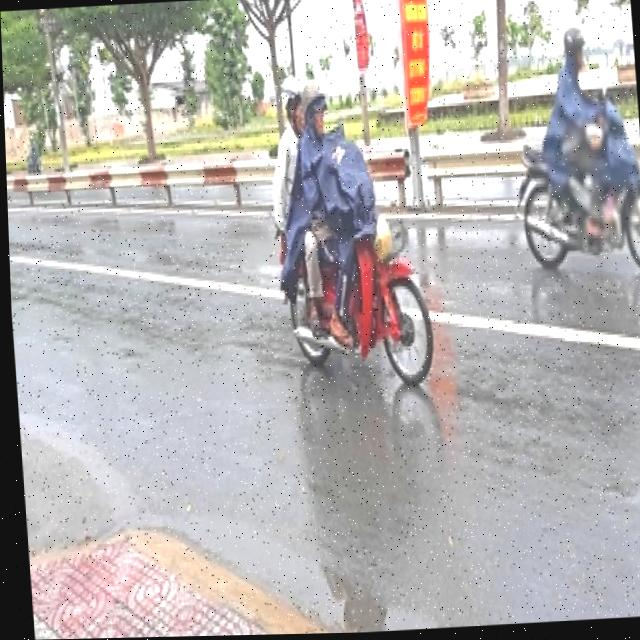motorcycle: (266, 202, 448, 396), (501, 131, 640, 282)
